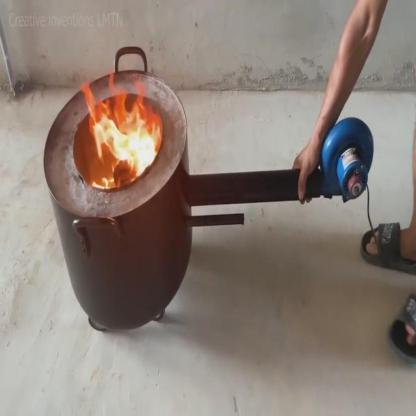Fire: (86, 77, 164, 186)
